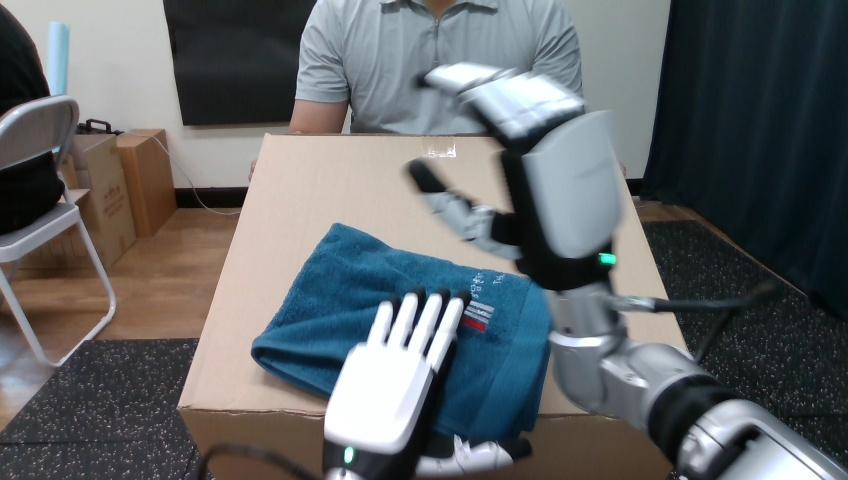left robot hand: (408, 62, 847, 479)
